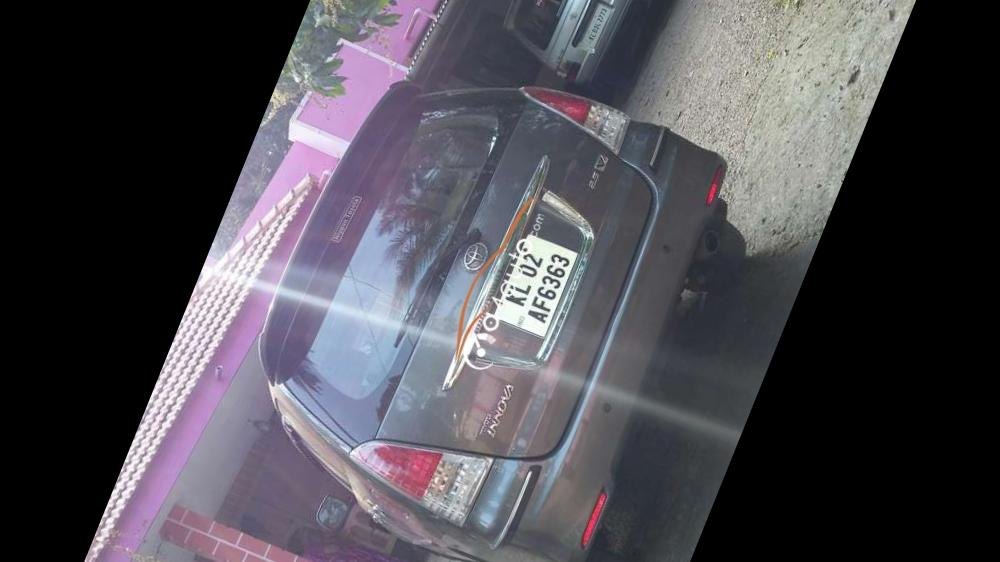plate: (477, 216, 594, 355)
